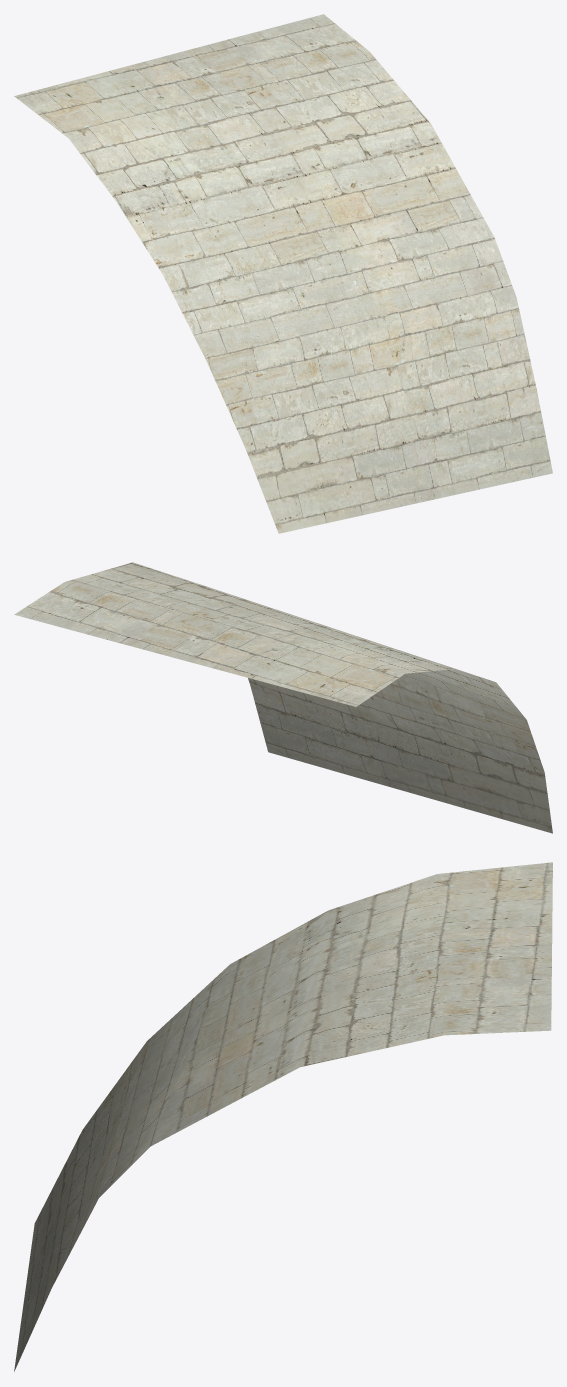
The model's file is Cath_roof_deform1.FBX.
3 views of the same model, one above another, from view 1: azimuth 30°, elevation 25°; view 2: azimuth 150°, elevation 25°; view 3: azimuth 270°, elevation 25° (orthographic). The views are drawn at different scales.
Parts seen in each view (by area): view 1: Cath_roof_deform1; view 2: Cath_roof_deform1; view 3: Cath_roof_deform1.
Part boxes in pixels (x1=…): Cath_roof_deform1: x1=14, y1=14, x2=552, y2=533; Cath_roof_deform1: x1=14, y1=562, x2=552, y2=833; Cath_roof_deform1: x1=14, y1=862, x2=552, y2=1371.
Bounding box in the file's own units: 401 × 516 × 364.
